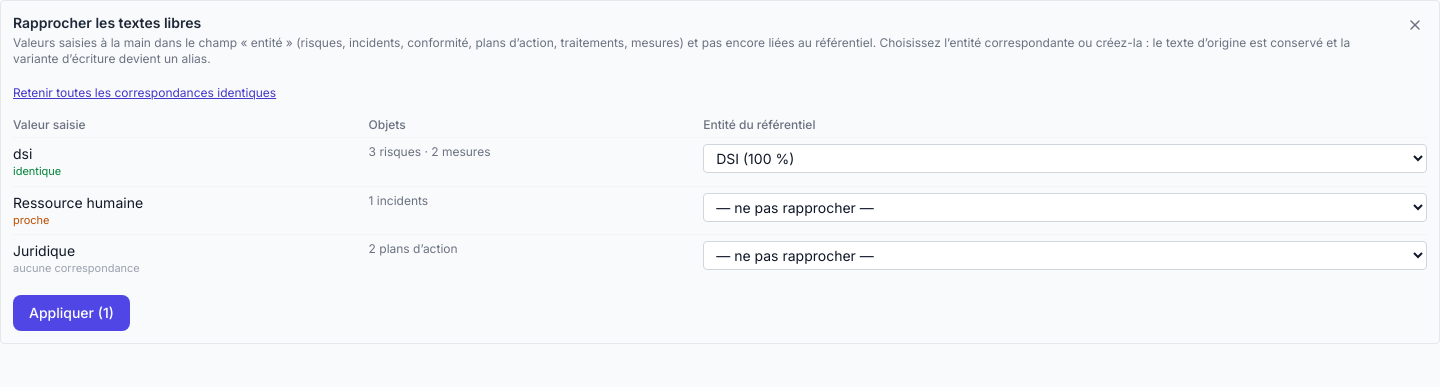
it: RapprochementEntitesPanel › identique présélectionnée, proche suggérée mais non retenue ; création ; envoi par lot
expect the dropdown named "Entité du référentiel — dsi" shows "DSI (100 %)": met, box x1=703 y1=144 x2=1427 y2=173
expect the text "3 risques · 2 mesures" is shown: met, box x1=369 y1=138 x2=703 y2=186
Select "Ressources humaines (90 %)" in the dropdown named "Entité du référentiel — Ressource humaine" at (1065, 207), box x1=703 y1=193 x2=1427 y2=222
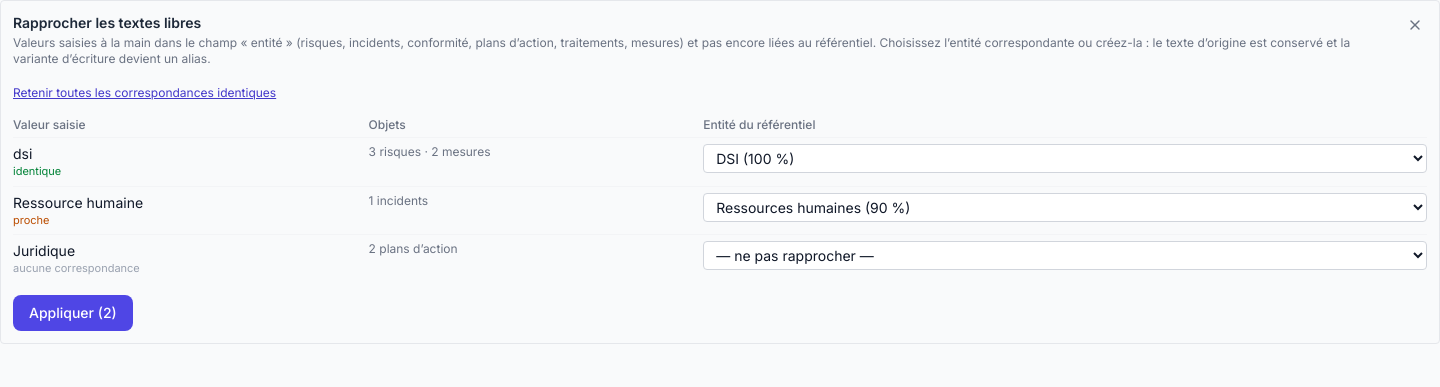
Select "Créer l’entité « Juridique »" in the dropdown named "Entité du référentiel — Juridique" at (1065, 256), box x1=703 y1=241 x2=1427 y2=270
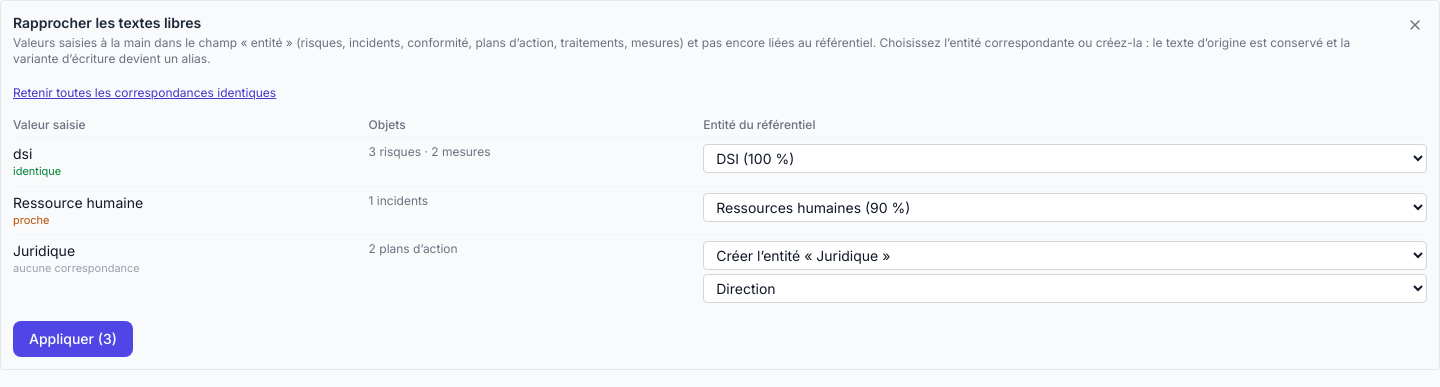
Select "Service" in the dropdown named "Type — Juridique" at (1065, 289), box x1=703 y1=274 x2=1427 y2=303
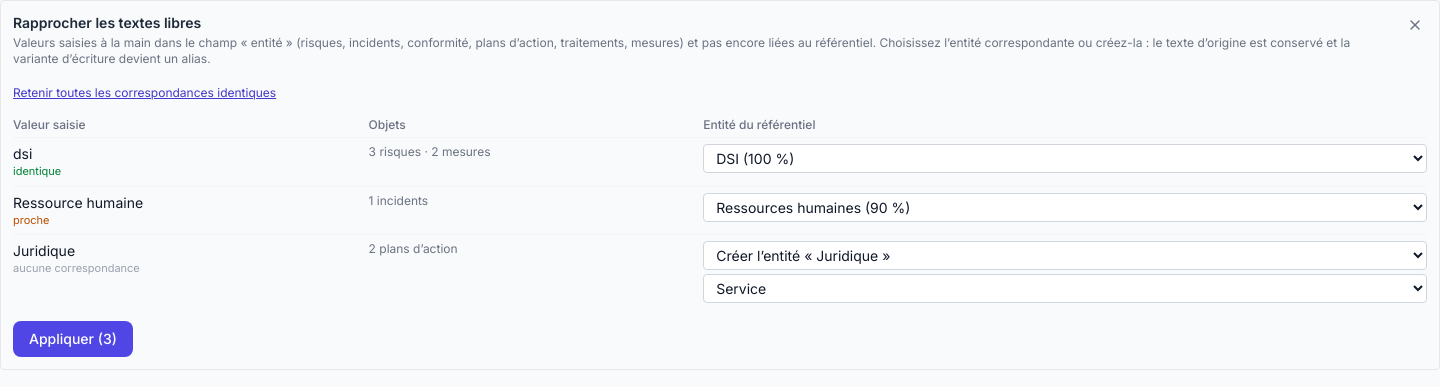
Click the button "Appliquer (3)" at (73, 339), box x1=13 y1=321 x2=133 y2=357
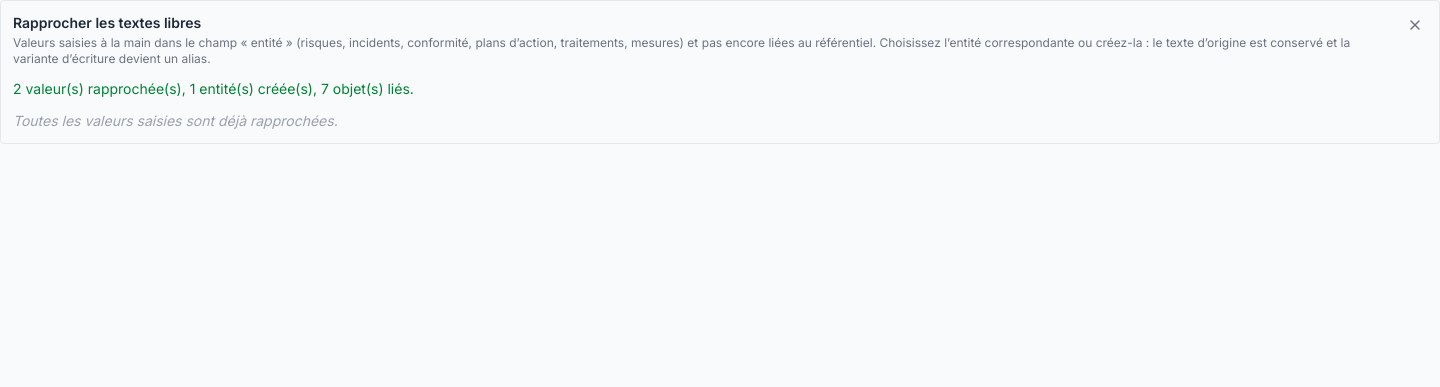
expect the text "2 valeur(s) rapprochée(s), 1 entité(s) créée(s), 7 objet(s) liés." is shown: met, box x1=13 y1=80 x2=414 y2=97
expect the text "Toutes les valeurs saisies sont déjà rapprochées." is shown: met, box x1=13 y1=112 x2=338 y2=129
